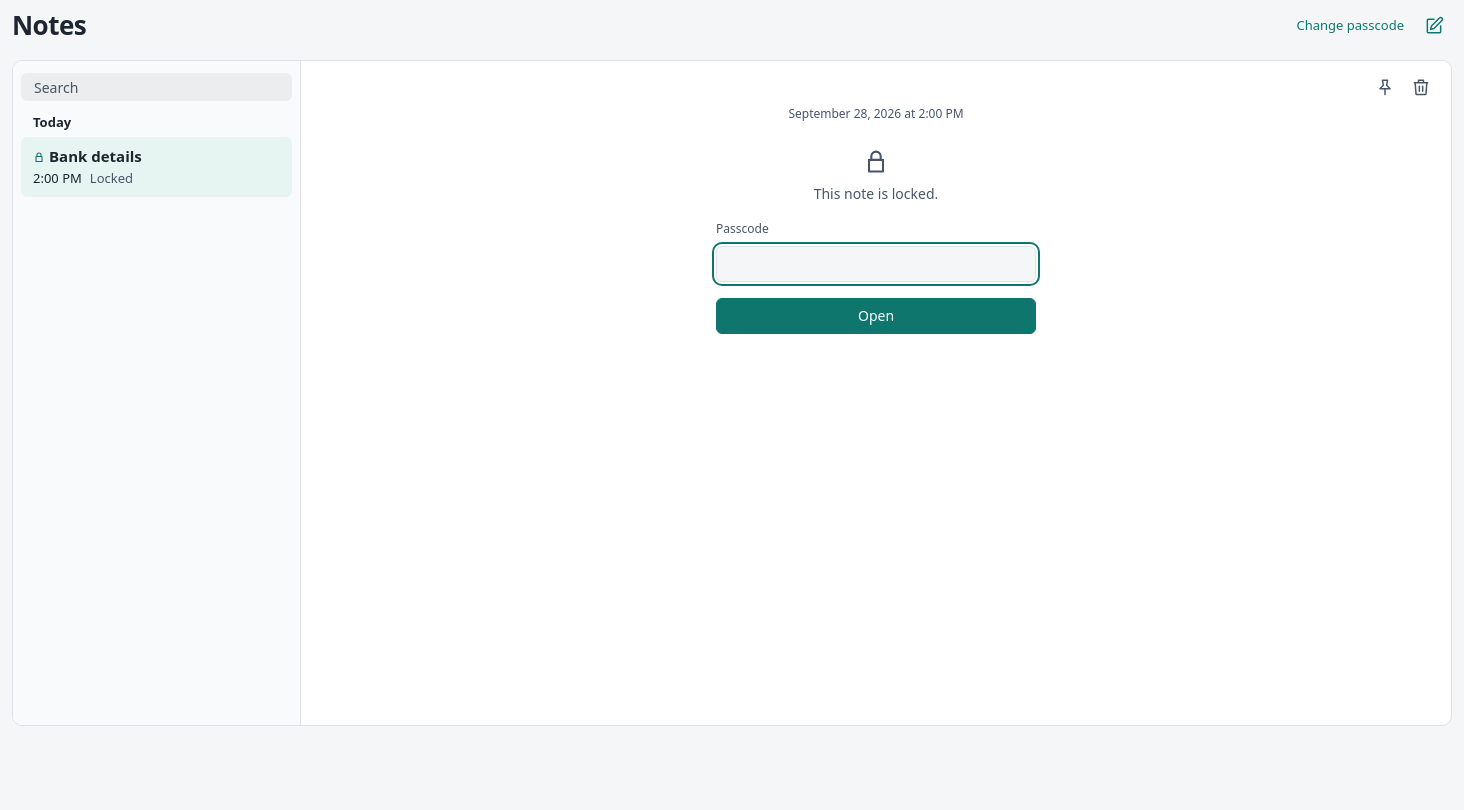
Scenario: AC-82.6 search does not look inside a locked note
Type "4412" into the search field named "Search notes" at (156, 87), box left=21, top=73, right=292, bottom=101
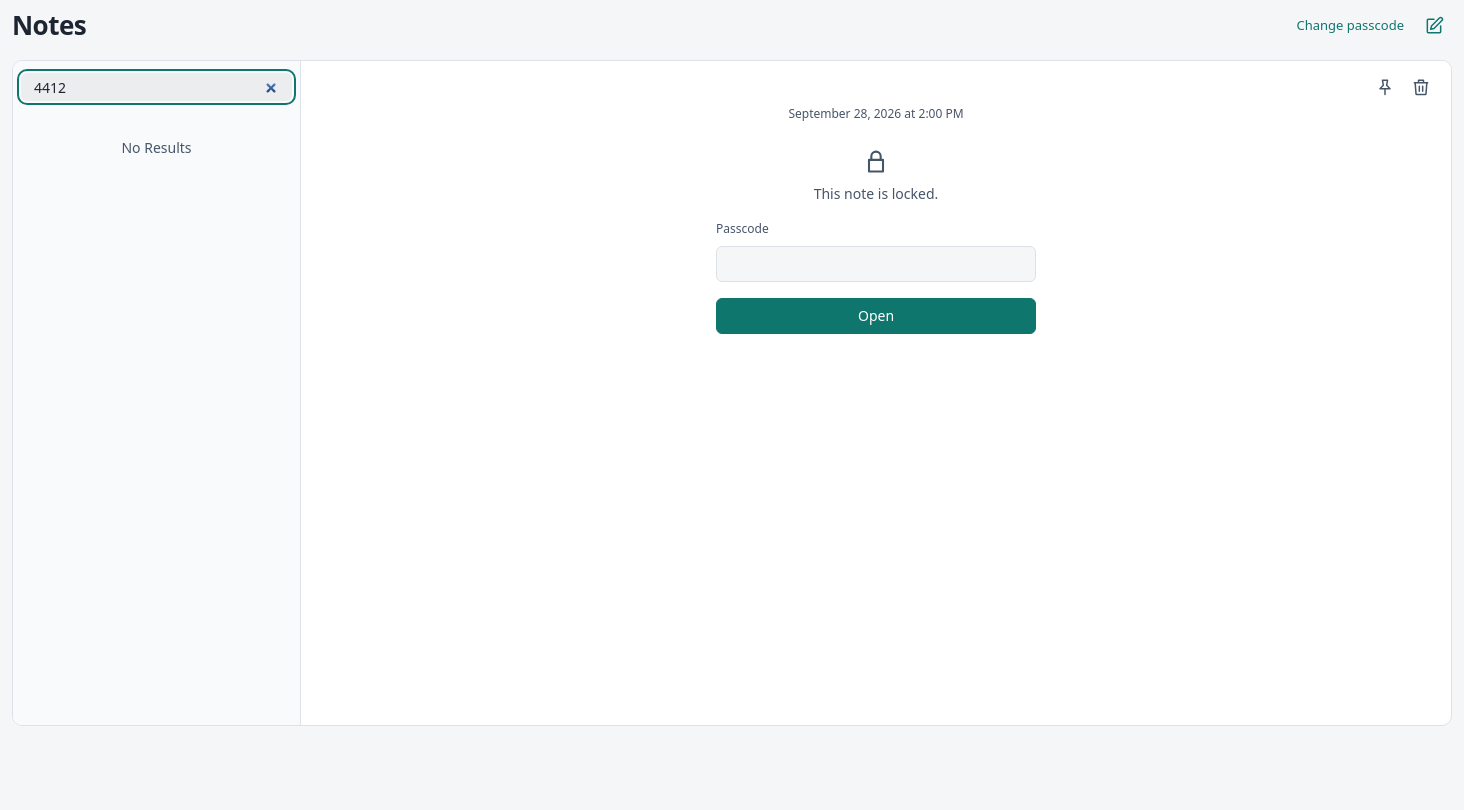
Now the text "No Results" is shown, box left=122, top=138, right=192, bottom=157
